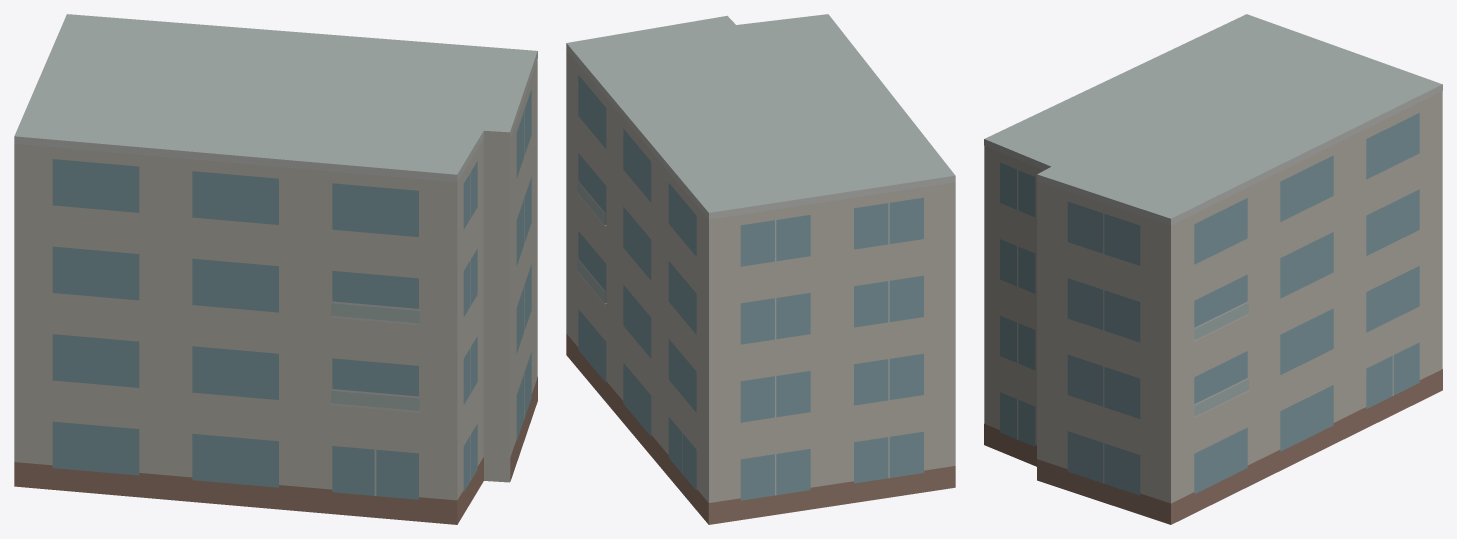
The model's file is survey-upis-32707894.glb.
3 views of the same model, side by side, from view 1: azimuth 30°, elevation 25°; view 2: azimuth 150°, elevation 25°; view 3: azimuth 270°, elevation 25° (orthographic). The views are drawn at different scales.
Visible parts, largest first — view 1: survey-upis-32707894.tmp; view 2: survey-upis-32707894.tmp; view 3: survey-upis-32707894.tmp.
Boxes of the visible parts, x1,y1,x2,y2 form: survey-upis-32707894.tmp: (14,14,537,524); survey-upis-32707894.tmp: (566,14,955,524); survey-upis-32707894.tmp: (984,14,1442,524).
Bounding box in the file's own units: 16.22 × 11.3 × 15.35.
